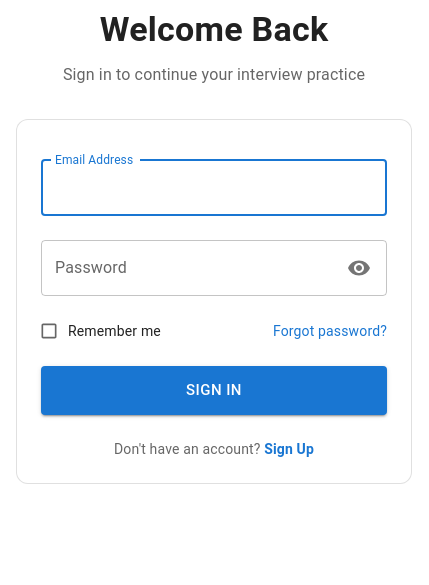
Scenario: Login Component › Error Handling › error alert can be dismissed
The width and height of the screenshot is (429, 585).
Type "john@example.com" into the field labelled "Email Address" at (214, 188), box [41,160,387,216]
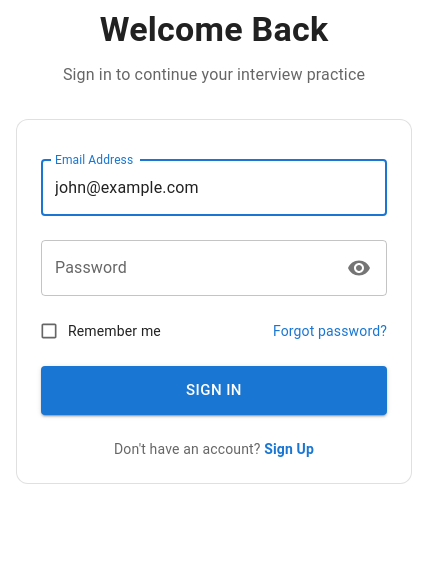
Type "Password123" into the password field labelled "Password" at (188, 268), box [41,240,334,296]
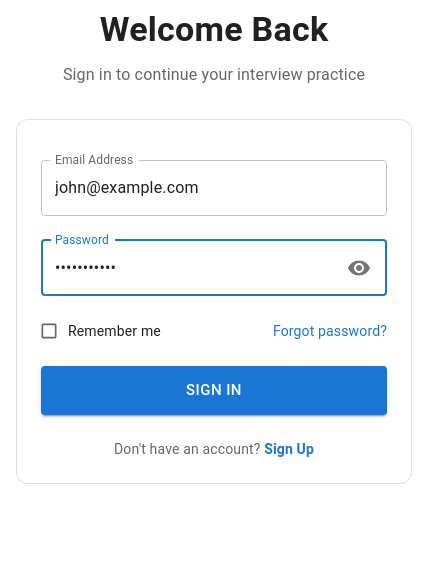
Click the button "Sign In" at (214, 390), box [41,366,387,414]
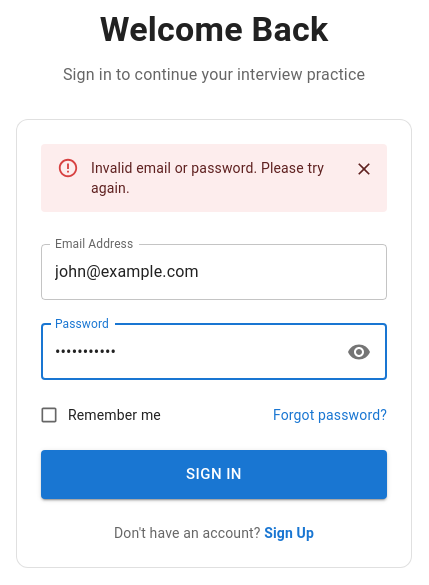
Now the text "Invalid email or password. Please try again." is shown, box [91,150,333,206]
Click the close button on the alert
Click the button named "close" at (364, 169), box [349,154,379,184]
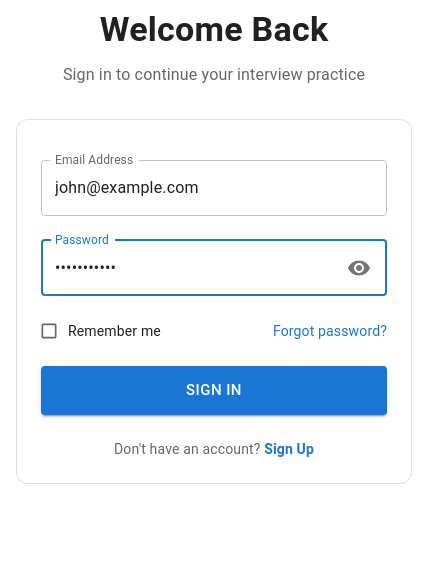
Now the text "Invalid email or password" is gone
